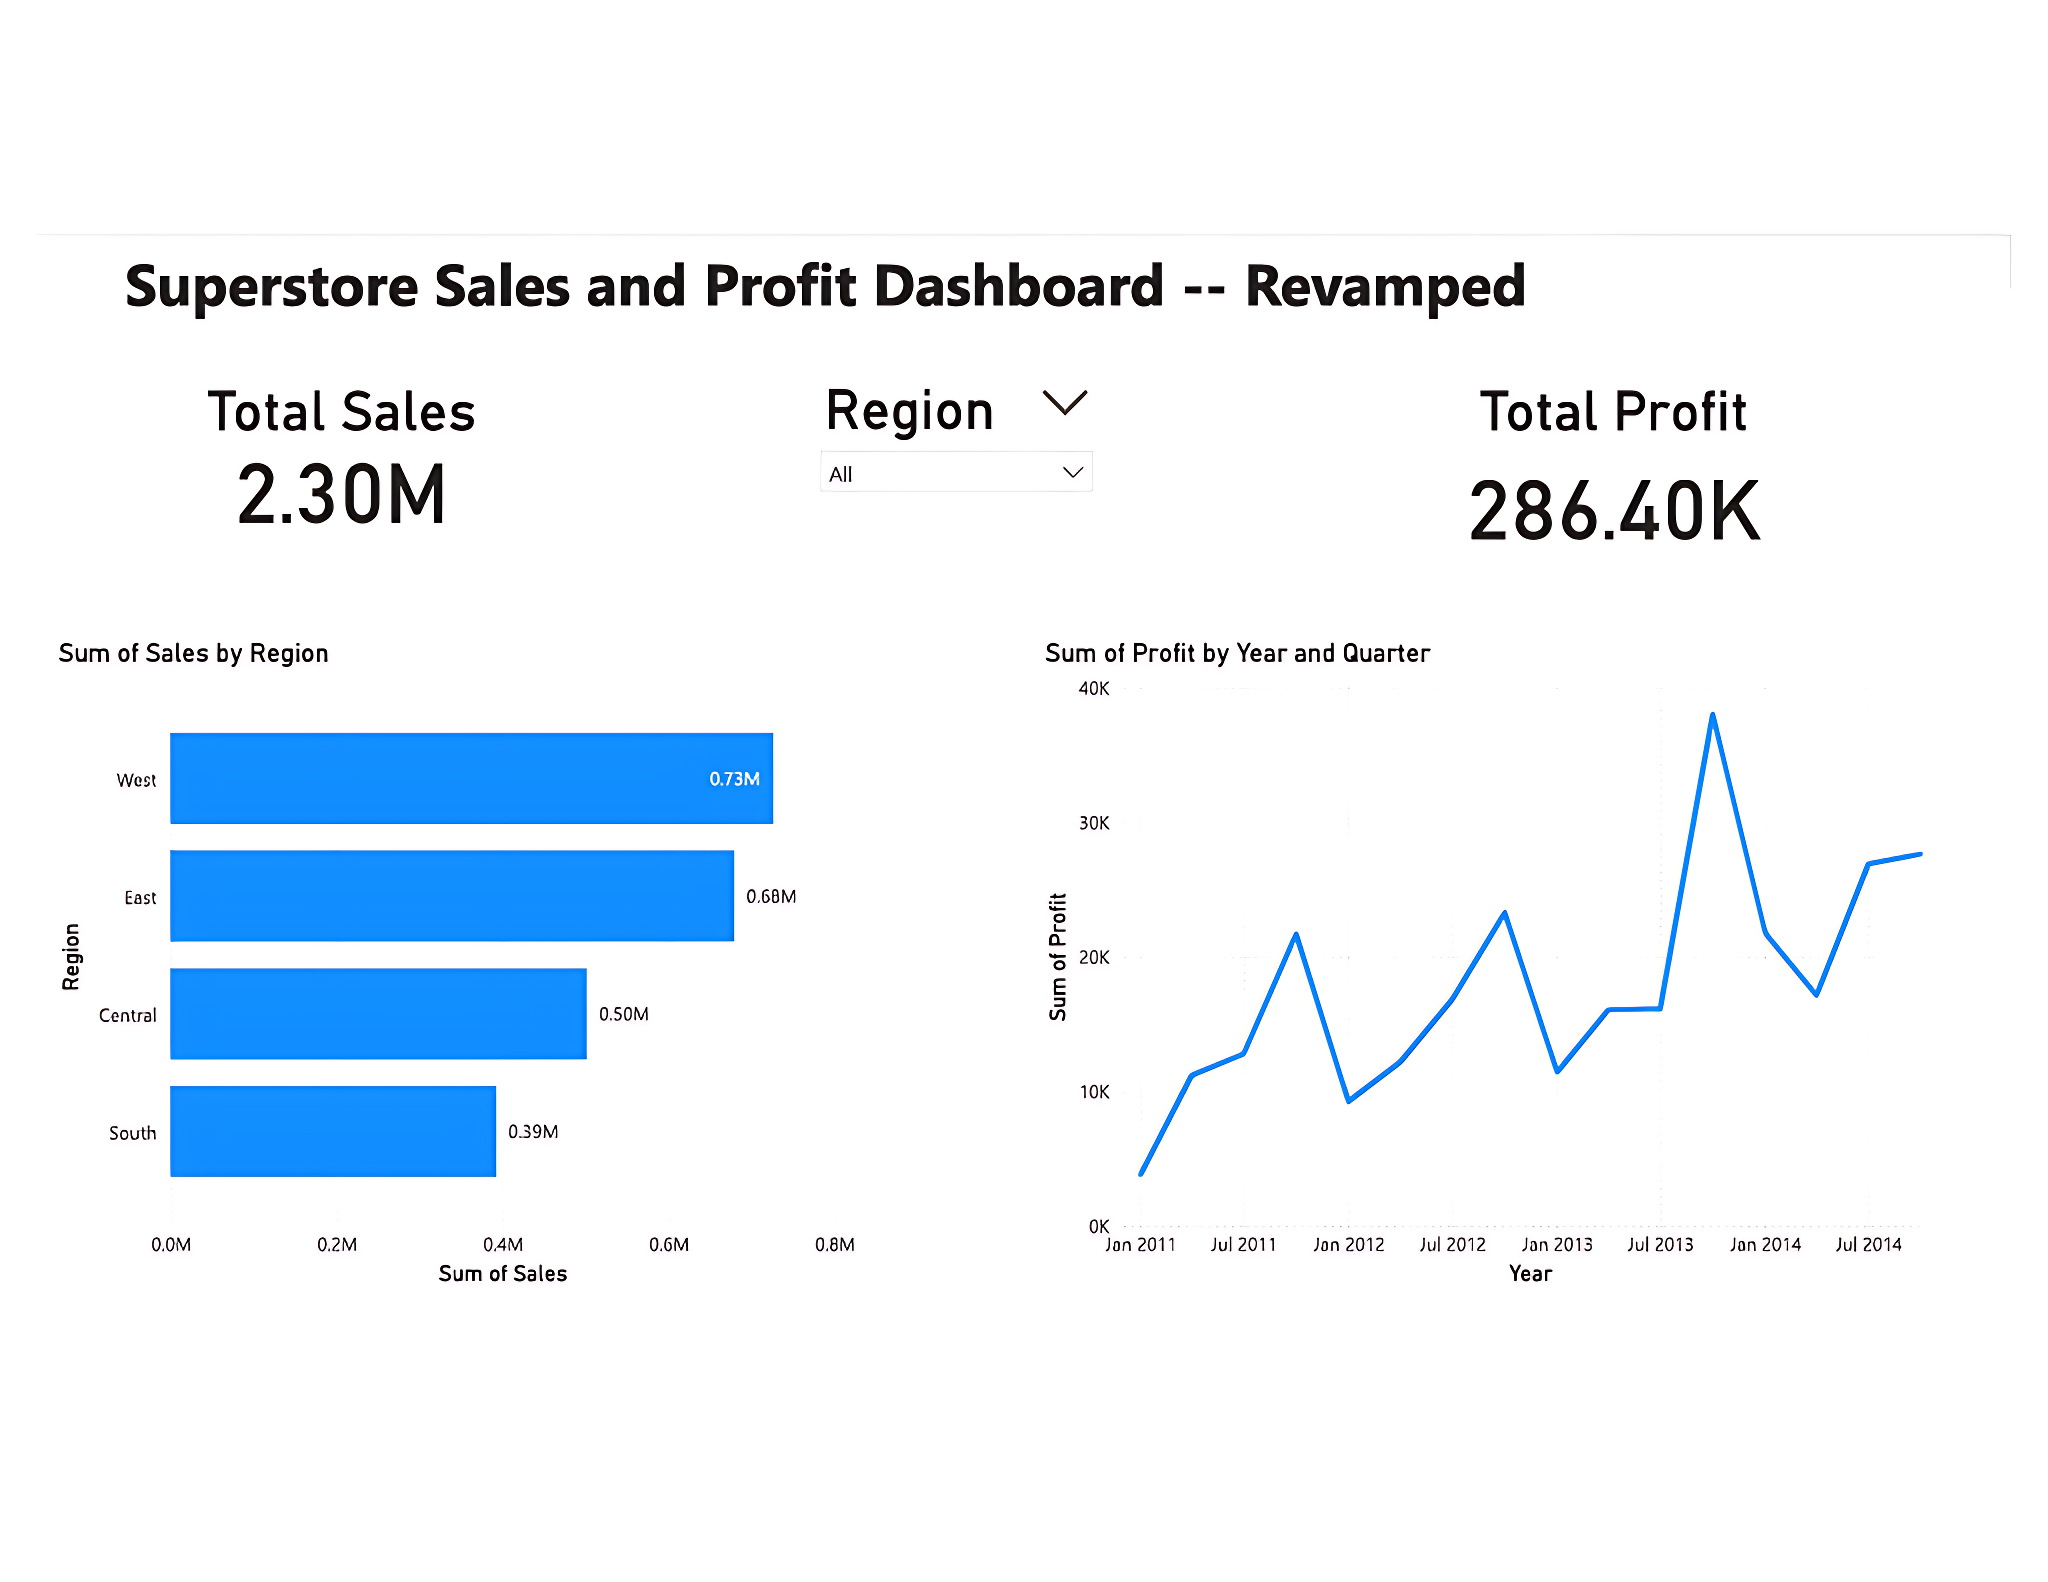

The page's visual inventory and layout, read from the dashboard file:
{"tool":"powerbi","page":{"name":"Page 1","canvas":[1280,720],"ordinal":0},"visuals":[{"type":"barChart","fields":{"Category":["Orders.Region"],"Y":["Sum(Orders.Sales)"]},"box":[8.6,260.5,528.3,425.5],"z":0},{"type":"lineChart","fields":{"Category":["Orders.Order Date.Variation.Date Hierarchy.Year","Orders.Order Date.Variation.Date Hierarchy.Quarter"],"Y":["Sum(Orders.Profit)"]},"box":[649.3,260.5,599.2,425.5],"z":1000},{"type":"textbox","box":[0,0,1023.5,85.6],"z":2000},{"type":"card","title":"Total Sales","fields":{"Values":["Sum(Orders.Sales)"]},"box":[8.6,91.7,377.9,116.2],"z":3000},{"type":"card","title":"Total Profit","fields":{"Values":["Sum(Orders.Profit)"]},"box":[797.3,91.7,451.2,116.2],"z":4000},{"type":"slicer","fields":{"Values":["Orders.Region"]},"box":[497.7,85.6,196.9,83.2],"z":4001}]}

Visuals, with their boxes on the page's 1280x720 design canvas (x1, y1, x2, y2). These are canvas units, not pixel positions in the 2048x1582 screenshot, which may show the page scaled, cropped or inside an application window:
barChart - Orders.Region x Sum(Orders.Sales): 9, 260, 537, 686
lineChart - Orders.Order Date.Variation.Date Hierarchy.Year x Orders.Order Date.Variation.Date Hierarchy.Quarter: 649, 260, 1248, 686
textbox: 0, 0, 1024, 86
"Total Sales" card: 9, 92, 386, 208
"Total Profit" card: 797, 92, 1248, 208
slicer - Orders.Region: 498, 86, 695, 169
